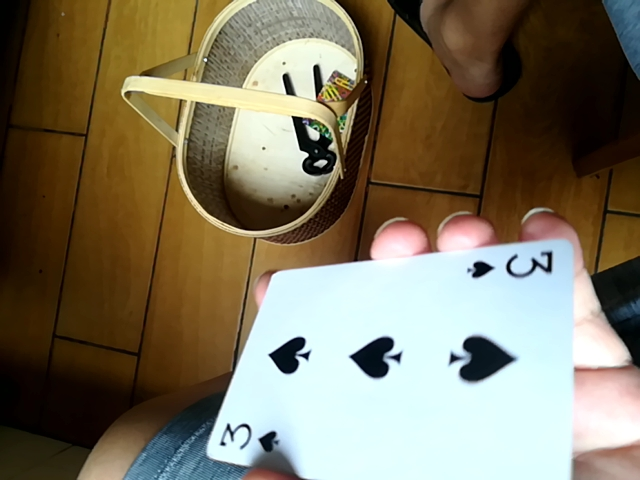ht 3: (211, 226, 586, 478)
